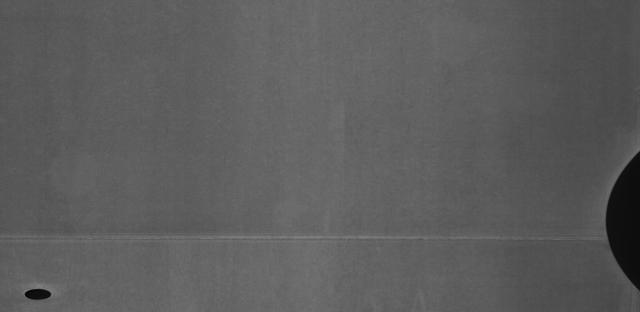crescent_gap: (597, 146, 640, 295)
punching_hole: (19, 282, 58, 303)
welding_line: (1, 229, 606, 249)
